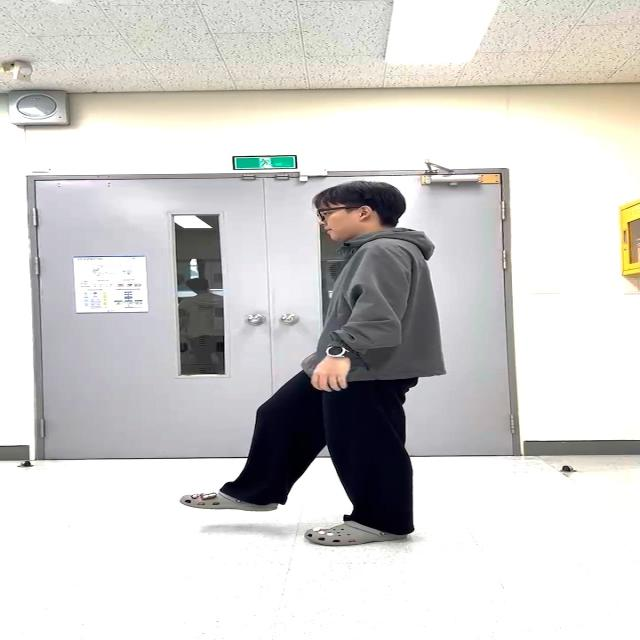leg: (179, 369, 325, 511), (304, 381, 415, 545)
